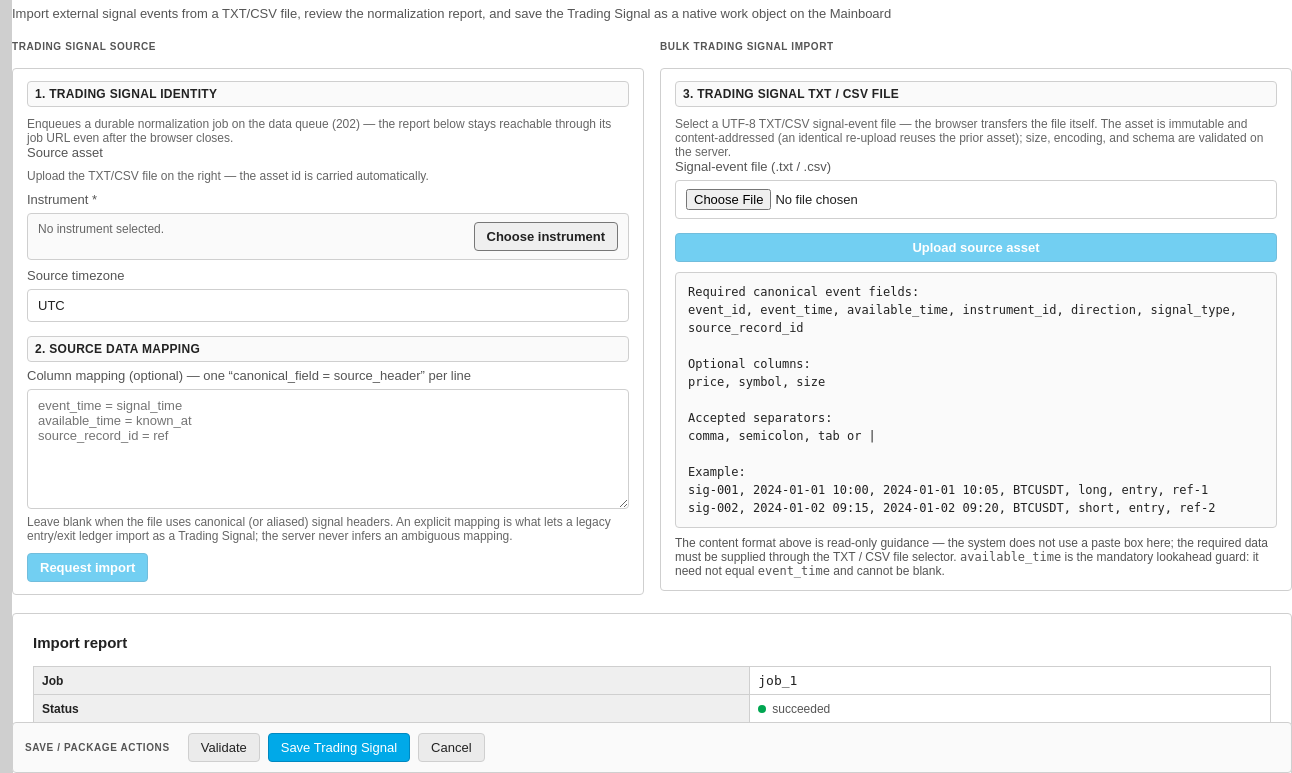
Test: TradingSignal › blocks Save client-side with field-level errors — nothing is sent
Click the button "Save Trading Signal" at (339, 748), box [268, 733, 410, 762]
(page scrolled)
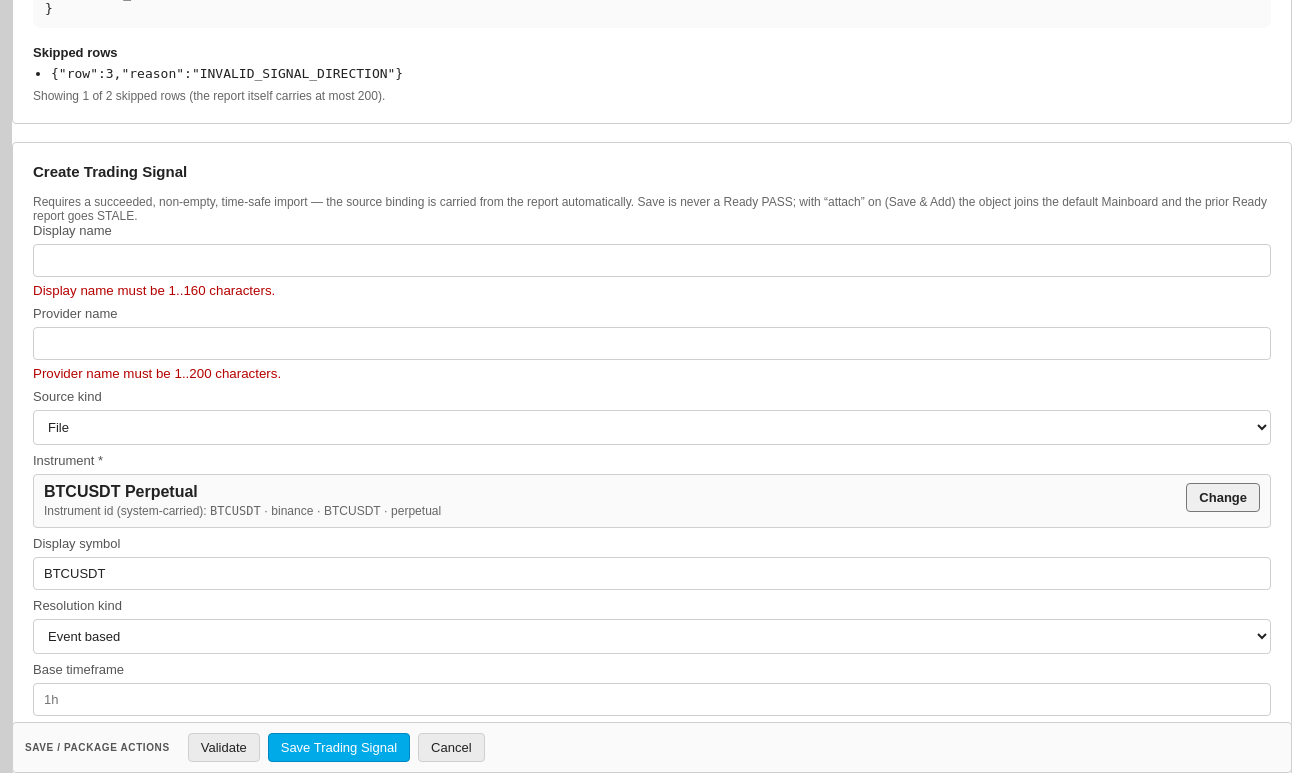
Result: the text "Display name must be 1..160 characters." is shown at [33, 283, 275, 298]
Result: the text "Provider name must be 1..200 characters." is shown at [33, 366, 281, 381]
